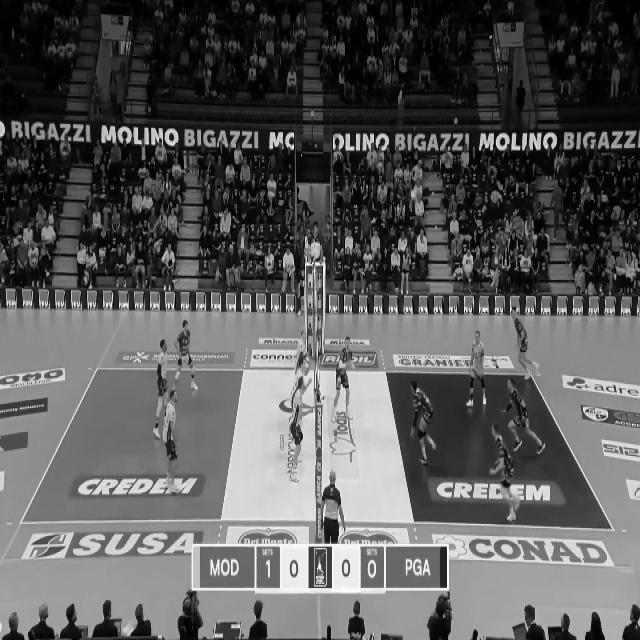volleyball court: (21, 370, 613, 530)
